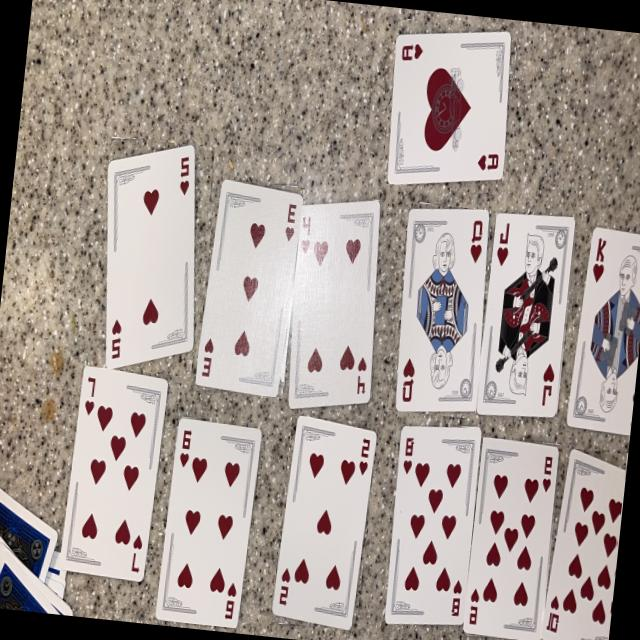10 of hearts: (542, 448, 624, 640)
2 of hearts: (106, 144, 196, 368)
3 of hearts: (196, 178, 303, 396)
4 of hearts: (289, 199, 381, 407)
5 of hearts: (272, 414, 376, 629)
6 of hearts: (155, 416, 262, 626)
7 of hearts: (61, 363, 168, 580)
8 of hearts: (385, 423, 482, 623)
9 of hearts: (464, 436, 560, 640)
Ace of hearts: (387, 29, 511, 184)
Jack of hearts: (477, 211, 575, 416)
King of hearts: (566, 226, 640, 433)
Queen of hearts: (396, 206, 490, 410)
